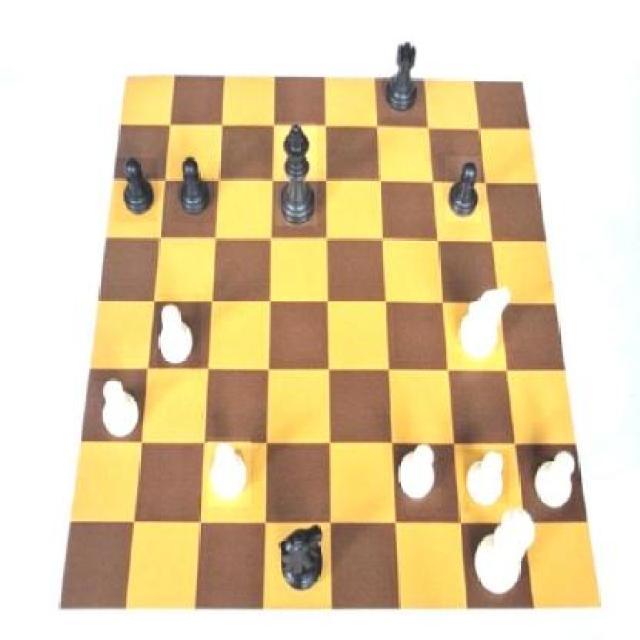black-bishop: (275, 122, 318, 226)
black-king: (269, 516, 332, 604)
black-knight: (171, 155, 214, 223), (115, 158, 158, 222), (445, 157, 480, 223)
black-queen: (377, 36, 424, 116)
white-bishop: (471, 503, 537, 602)
white-king: (456, 280, 512, 363)
white-knight: (94, 376, 144, 448), (157, 294, 200, 371), (534, 444, 577, 516), (208, 438, 252, 508), (396, 443, 442, 509), (465, 450, 509, 512)
